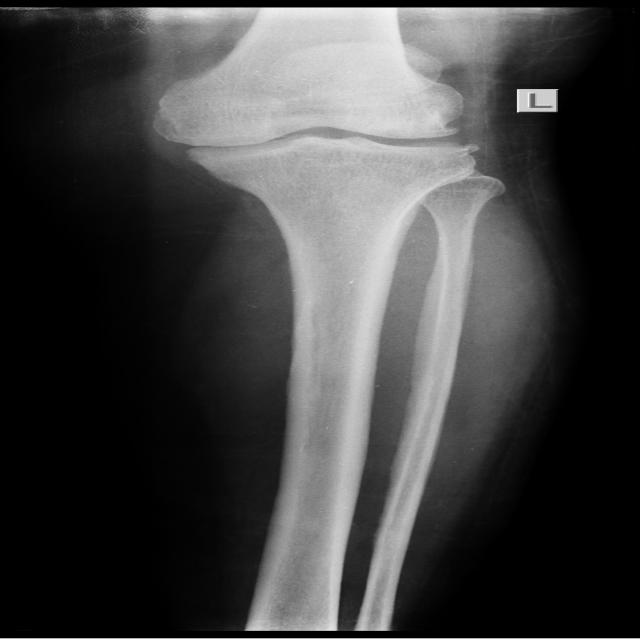normal: (157, 70, 476, 176)
